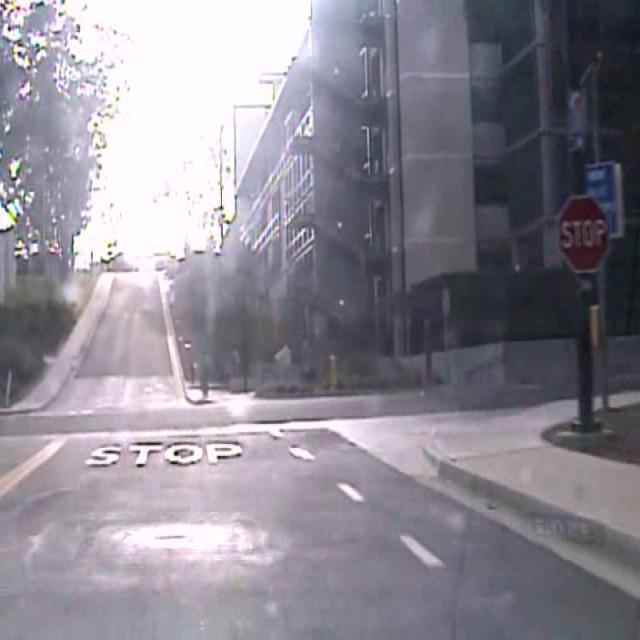stop: (555, 194, 610, 274)
